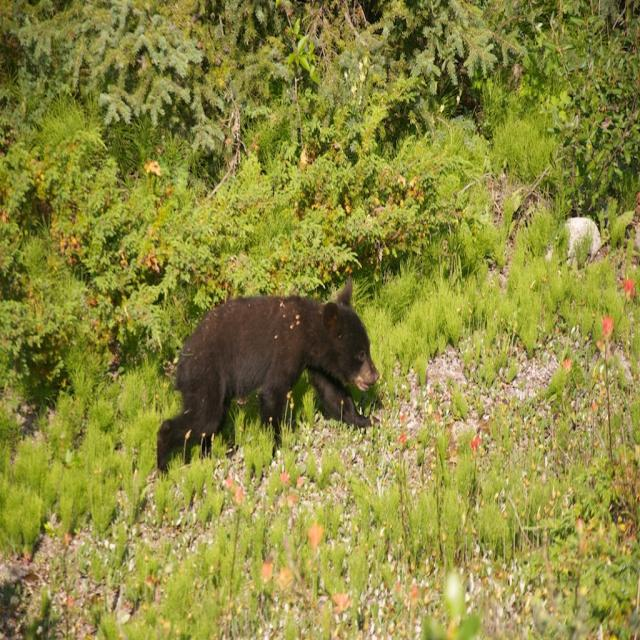Buffalo: (157, 276, 379, 456)
